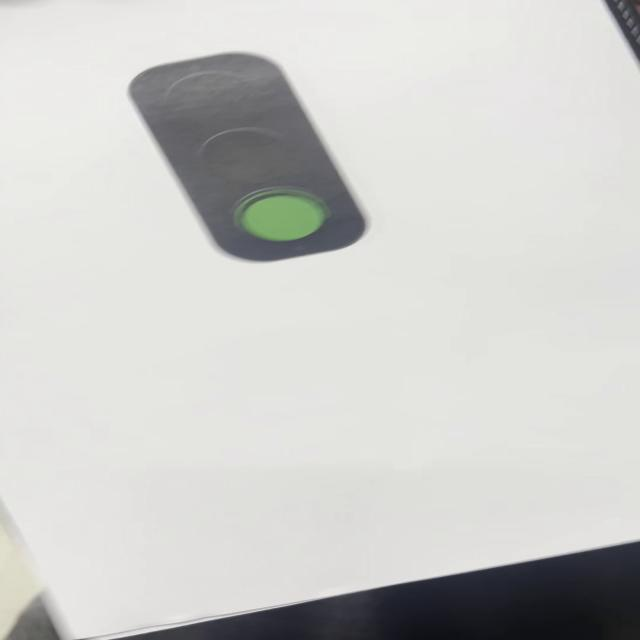green: (121, 50, 377, 268)
